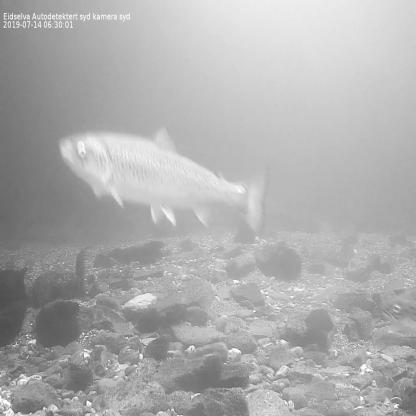salmon: (56, 119, 272, 238)
